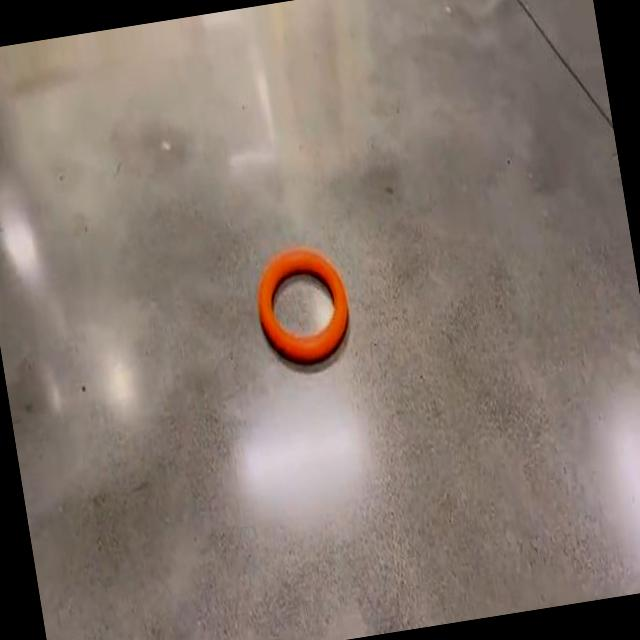note: (258, 247, 348, 363)
